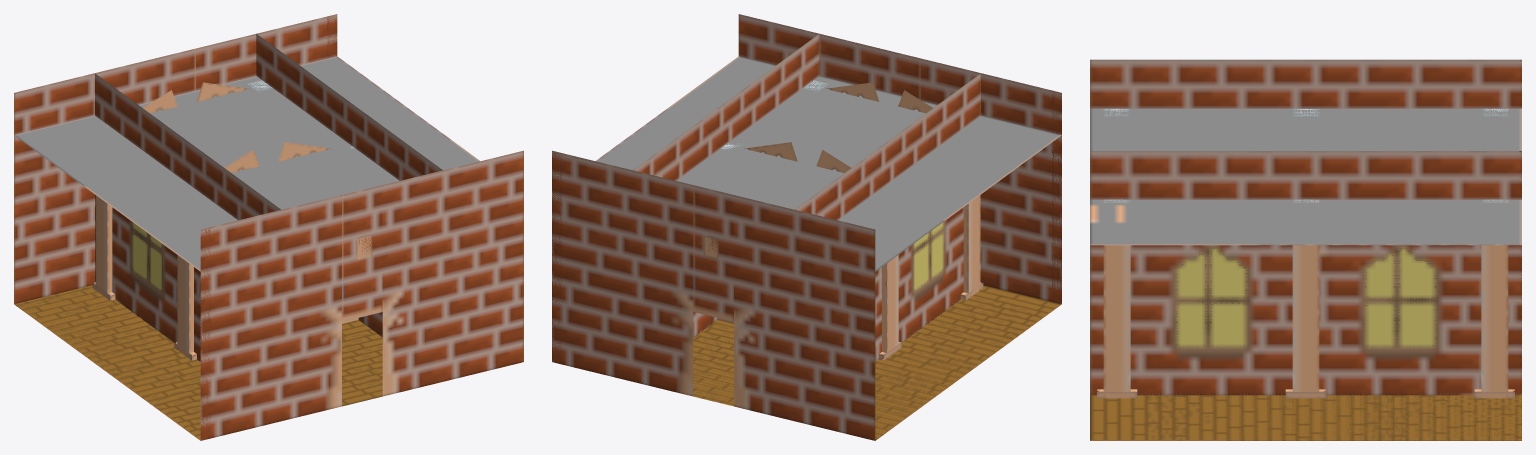
Rendered from Room3.fbx.
3 views of the same model, side by side, from view 1: azimuth 30°, elevation 25°; view 2: azimuth 150°, elevation 25°; view 3: azimuth 270°, elevation 25° (orthographic). The views are drawn at different scales.
Parts seen in each view (by area): view 1: cube_1, cube_12, cube_10, cube_7, cube, cube_35, cube_38, cube_36, cube_37, cube_9, cube_11, cube_8 (+4 smaller); view 2: cube_1, cube_9, cube_7, cube_10, cube, cube_35, cube_38, cube_36, cube_12, cube_8, cube_37, cube_11 (+4 smaller); view 3: cube_36, cube_1, cube_37, cube_35, cube, cube_38, cube_29, cube_33, cube_32.
Part boxes in pixels (box(x1,y1,x2,y2)): cube_1: box(14, 56, 480, 271); cube_12: box(382, 150, 523, 396); cube_10: box(200, 195, 341, 440); cube_7: box(14, 58, 155, 304); cube: box(14, 285, 382, 440); cube_35: box(95, 73, 280, 361); cube_38: box(95, 74, 279, 360); cube_36: box(256, 34, 442, 336); cube_37: box(256, 35, 441, 336); cube_9: box(196, 14, 337, 90); cube_11: box(342, 185, 382, 321); cube_8: box(155, 48, 195, 99); cube_1: box(595, 56, 1061, 271); cube_9: box(552, 150, 693, 396); cube_7: box(734, 195, 875, 440); cube_10: box(920, 58, 1061, 304); cube: box(693, 285, 1061, 440); cube_35: box(795, 73, 980, 361); cube_38: box(795, 74, 980, 361); cube_36: box(633, 34, 819, 336); cube_12: box(738, 14, 879, 90); cube_8: box(693, 185, 733, 321); cube_37: box(635, 34, 819, 336); cube_11: box(880, 48, 920, 99); cube_36: box(1090, 151, 1521, 395); cube_1: box(1090, 108, 1521, 245); cube_37: box(1090, 151, 1521, 395); cube_35: box(1090, 59, 1521, 108); cube: box(1090, 395, 1521, 440); cube_38: box(1090, 59, 1521, 108); cube_29: box(1481, 199, 1508, 398); cube_33: box(1103, 199, 1130, 398); cube_32: box(1292, 199, 1319, 398).
Size of the model in its own units: 100 by 62.5 by 100.
Materials: 1 (1 with a texture image).
